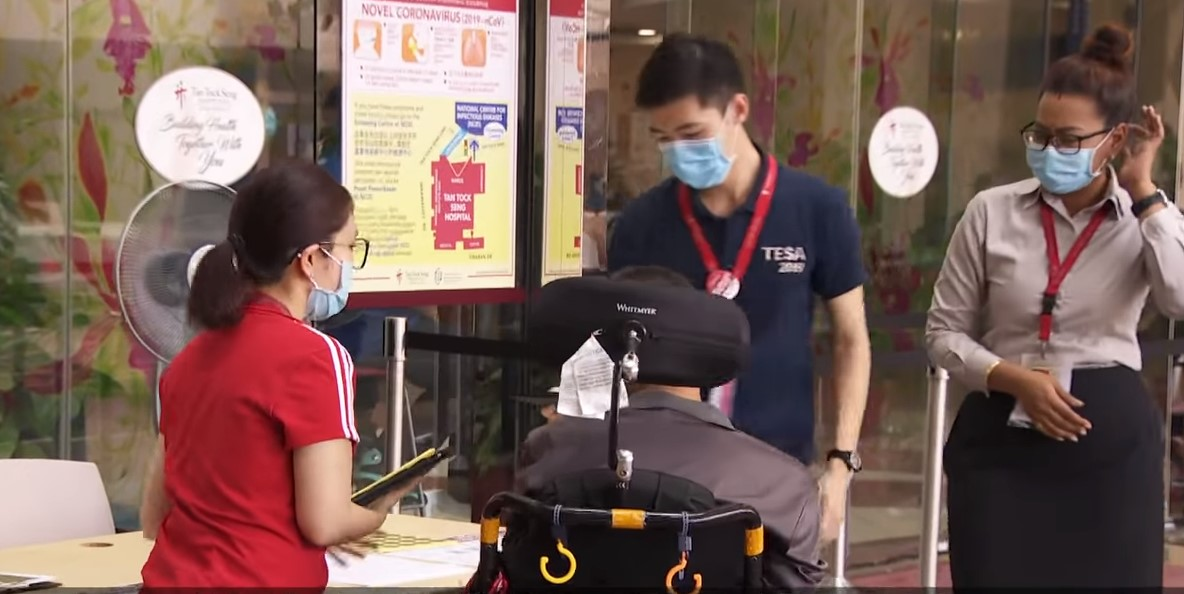face_with_mask: (632, 39, 751, 194), (267, 165, 372, 329), (1020, 59, 1135, 196)
